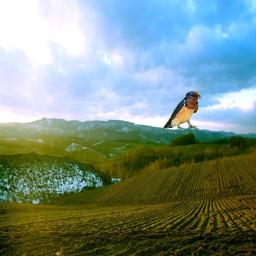Swallow: (162, 91, 201, 130)
